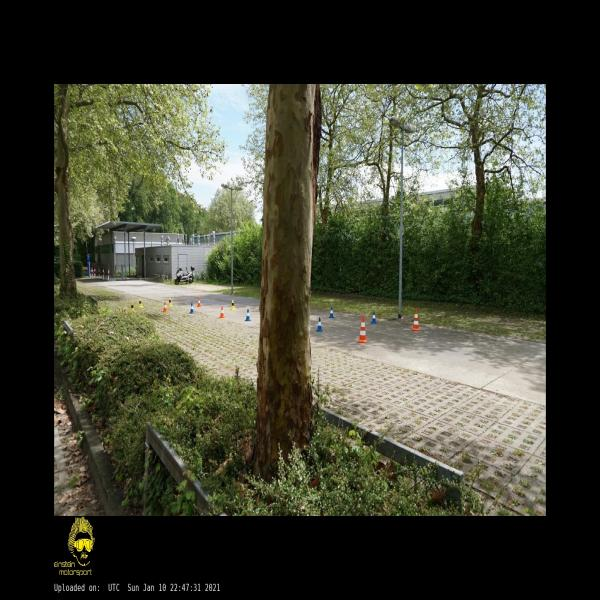blue_cone: (316, 317, 322, 332), (371, 311, 377, 323), (245, 309, 251, 321), (329, 307, 334, 318), (190, 302, 194, 314)
large_orange_cone: (357, 316, 367, 343), (412, 309, 420, 331)
orange_cone: (219, 306, 224, 317), (163, 302, 167, 312), (197, 298, 201, 307)
yellow_cone: (230, 300, 235, 310), (138, 298, 143, 308), (168, 297, 172, 307), (130, 303, 134, 312)
